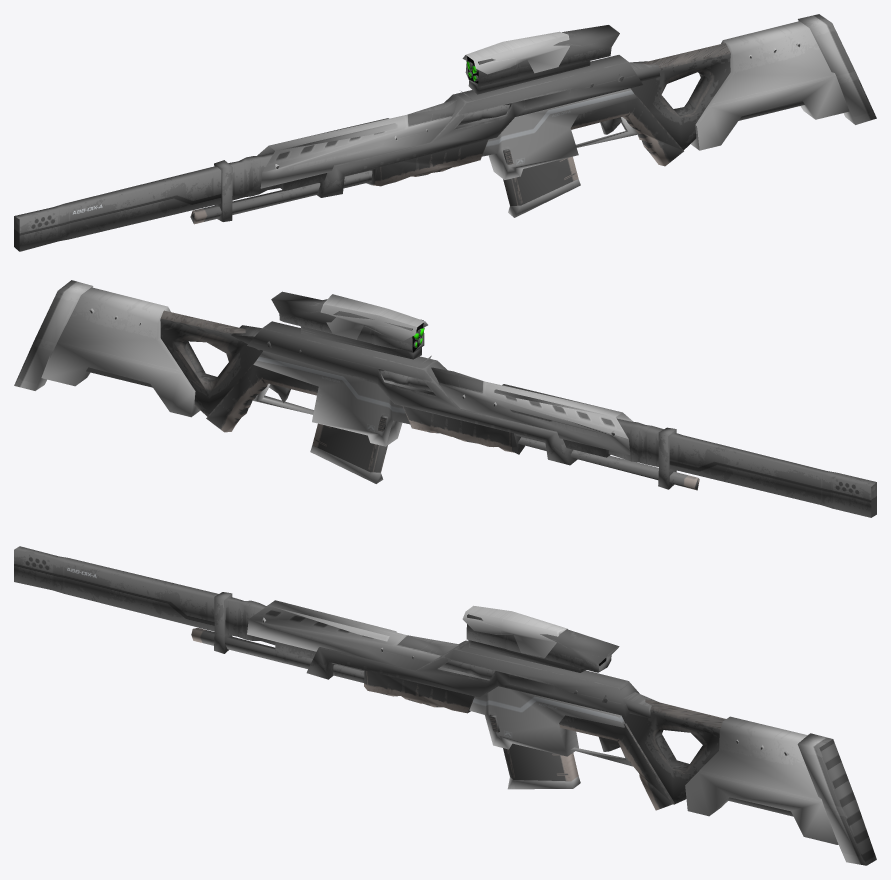
The model's file is DZ_Gun_Sniper.fbx.
The picture shows the model from 3 angles, top to bottom: view 1: azimuth 30°, elevation 25°; view 2: azimuth 150°, elevation 25°; view 3: azimuth 330°, elevation 25°; orthographic projection.
Parts seen in each view (by area): view 1: Gun_Sniper; view 2: Gun_Sniper; view 3: Gun_Sniper.
Boxes of the visible parts, bbox=[...] form: Gun_Sniper: bbox=[14, 14, 876, 251]; Gun_Sniper: bbox=[14, 280, 876, 517]; Gun_Sniper: bbox=[14, 546, 876, 865].
Size of the model in its own units: 1.72 by 0.3291 by 0.0599.
